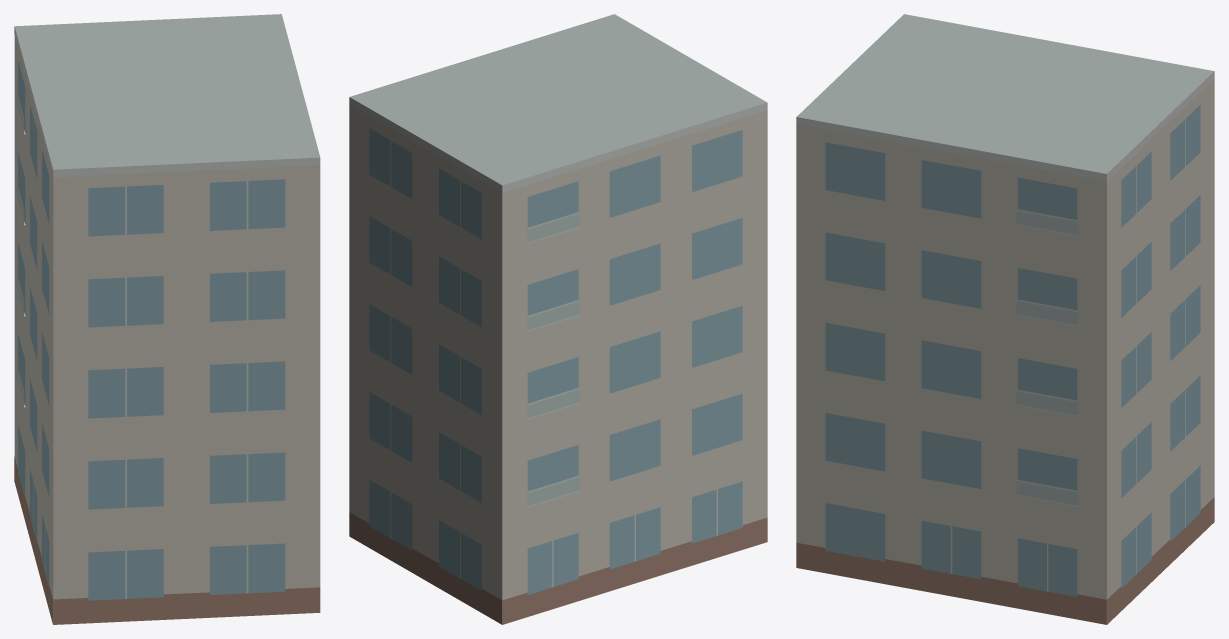
File: survey-upis-32534120.glb
The picture shows the model from 3 angles, left to right: view 1: azimuth 30°, elevation 25°; view 2: azimuth 150°, elevation 25°; view 3: azimuth 270°, elevation 25°; orthographic projection. The views are drawn at different scales.
Parts seen in each view (by area): view 1: survey-upis-32534120.tmp; view 2: survey-upis-32534120.tmp; view 3: survey-upis-32534120.tmp.
Boxes of the visible parts, x1,y1,x2,y2 form: survey-upis-32534120.tmp: (14, 14, 320, 624); survey-upis-32534120.tmp: (349, 14, 767, 624); survey-upis-32534120.tmp: (796, 14, 1214, 624).
Bounding box in the file's own units: 11.04 × 14.5 × 12.19.
